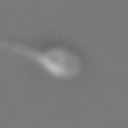normal: (1, 36, 43, 61)
